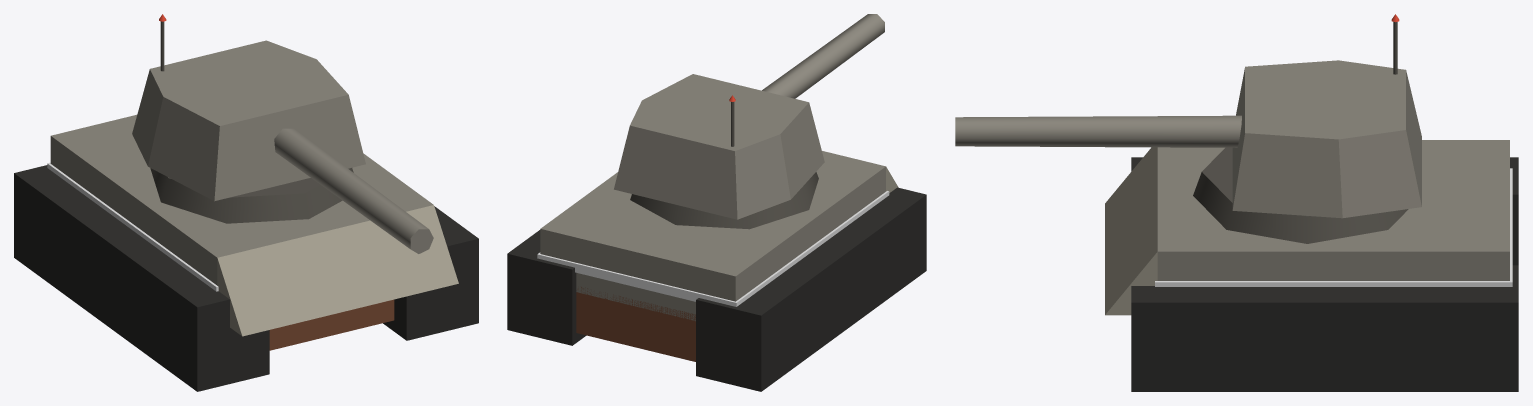
The picture shows the model from 3 angles, left to right: view 1: azimuth 30°, elevation 25°; view 2: azimuth 150°, elevation 25°; view 3: azimuth 270°, elevation 25°; orthographic projection. The views are drawn at different scales.
Visible parts, largest first — view 1: dweller_robot_sentinel; view 2: dweller_robot_sentinel; view 3: dweller_robot_sentinel.
Part boxes in pixels (x1,y1,x2,y2): dweller_robot_sentinel: [14, 14, 478, 391]; dweller_robot_sentinel: [507, 14, 926, 391]; dweller_robot_sentinel: [955, 14, 1518, 391].
Bounding box in the file's own units: 3.9 × 3.5 × 6.4.
